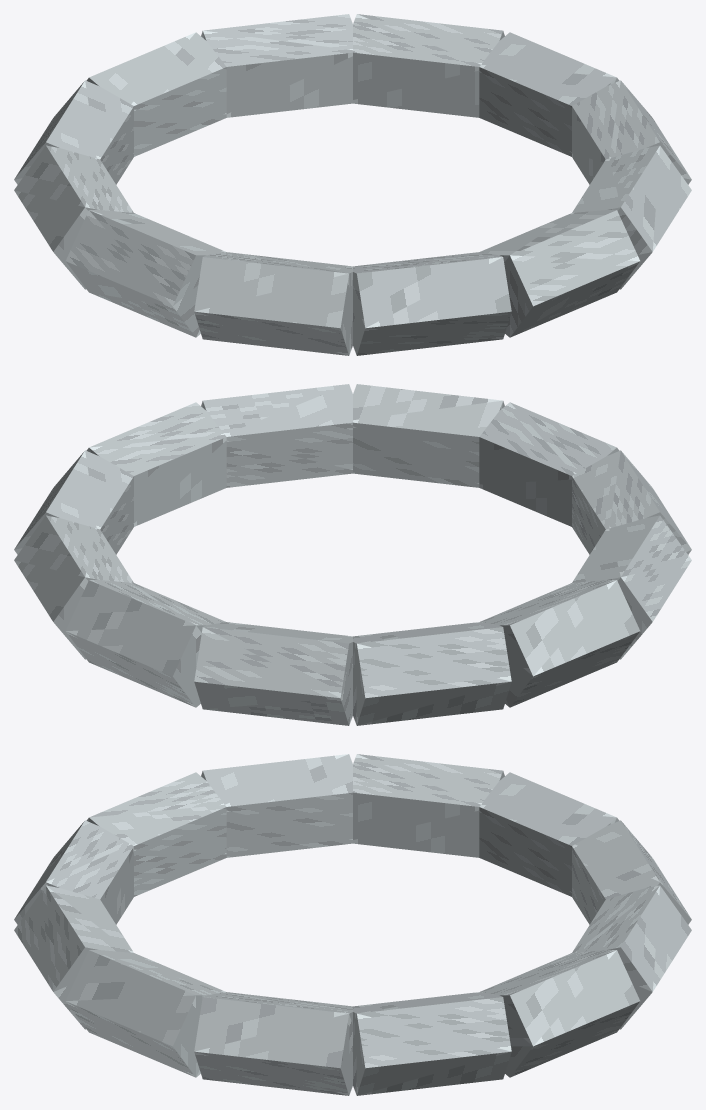
File: ring_purity.glb
3 renders of one model, top to bottom at view 1: azimuth 30°, elevation 25°; view 2: azimuth 150°, elevation 25°; view 3: azimuth 270°, elevation 25°, orthographic.
Parts seen in each view (by area): view 1: block_band3, block_band4, block_band9, block_band10, block_band2, block_band5, block_band8, block_band11, block_band1, block_band6, block_band0, block_band7; view 2: block_band7, block_band8, block_band1, block_band2, block_band6, block_band9, block_band0, block_band3, block_band5, block_band10, block_band4, block_band11; view 3: block_band0, block_band11, block_band5, block_band6, block_band1, block_band10, block_band4, block_band7, block_band2, block_band9, block_band3, block_band8.
Part boxes in pixels (x1,y1,x2,y2): block_band3: (353, 252, 511, 355); block_band4: (194, 252, 352, 355); block_band9: (201, 14, 352, 117); block_band10: (353, 14, 504, 117); block_band2: (480, 210, 639, 337); block_band5: (66, 210, 225, 337); block_band8: (86, 32, 226, 156); block_band11: (479, 32, 619, 156); block_band1: (572, 145, 691, 289); block_band6: (14, 145, 133, 289); block_band0: (572, 80, 691, 184); block_band7: (14, 80, 133, 184); block_band7: (353, 622, 511, 725); block_band8: (194, 622, 352, 725); block_band1: (201, 384, 352, 487); block_band2: (353, 384, 504, 487); block_band6: (480, 580, 639, 707); block_band9: (66, 580, 225, 707); block_band0: (86, 402, 226, 526); block_band3: (479, 402, 619, 526); block_band5: (572, 515, 691, 659); block_band10: (14, 515, 133, 659); block_band4: (572, 450, 691, 554); block_band11: (14, 450, 133, 554); block_band0: (194, 992, 352, 1095); block_band11: (353, 992, 511, 1095); block_band5: (201, 754, 352, 857); block_band6: (353, 754, 504, 857); block_band1: (66, 950, 225, 1077); block_band10: (480, 950, 639, 1077); block_band4: (86, 772, 226, 896); block_band7: (479, 772, 619, 896); block_band2: (14, 885, 133, 1029); block_band9: (572, 885, 691, 1029); block_band3: (14, 820, 133, 924); block_band8: (572, 820, 691, 924).
Size of the model in its own units: 0.0178 by 0.00239 by 0.0178.
1 material, 1 textured.
